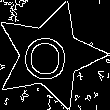O_N: (27, 29, 72, 81)
